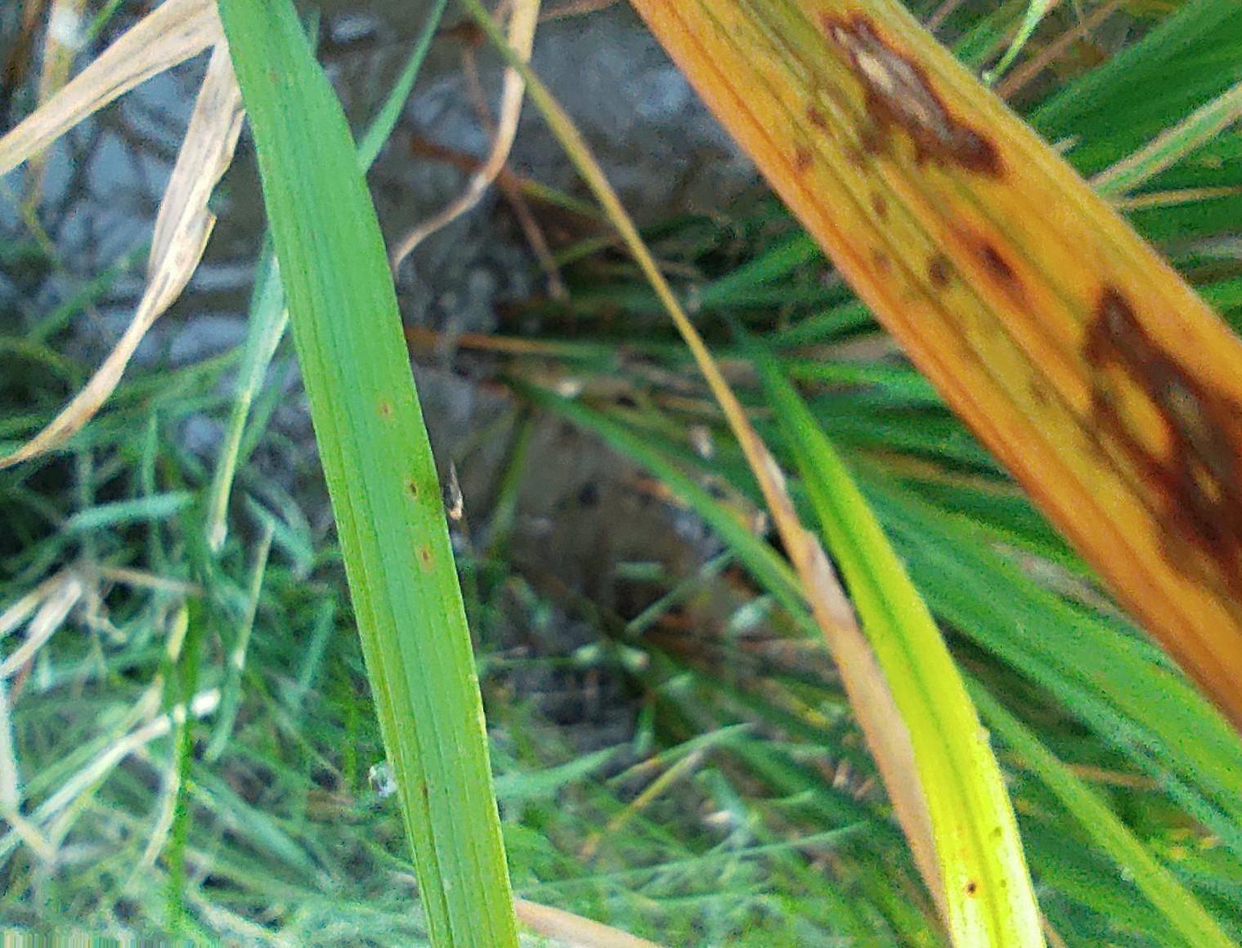LEAF: (220, 0, 518, 947)
NBS: (417, 543, 434, 576), (401, 478, 423, 503), (416, 779, 433, 811), (379, 399, 395, 422)
